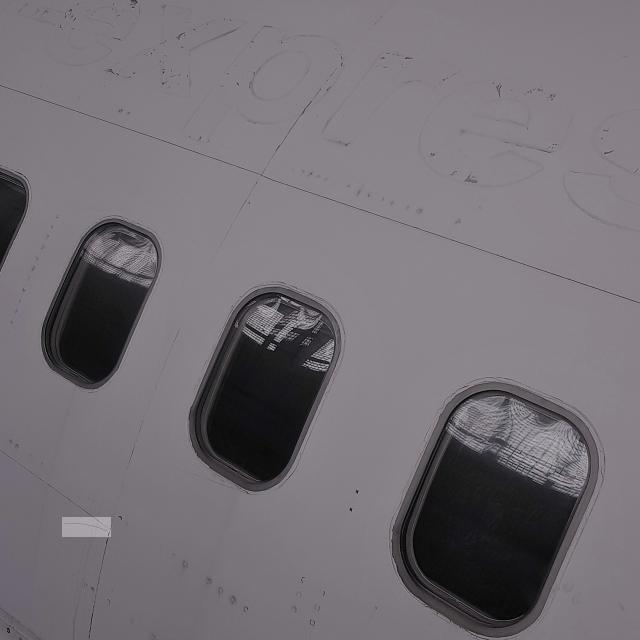crack: (63, 518, 112, 538)
